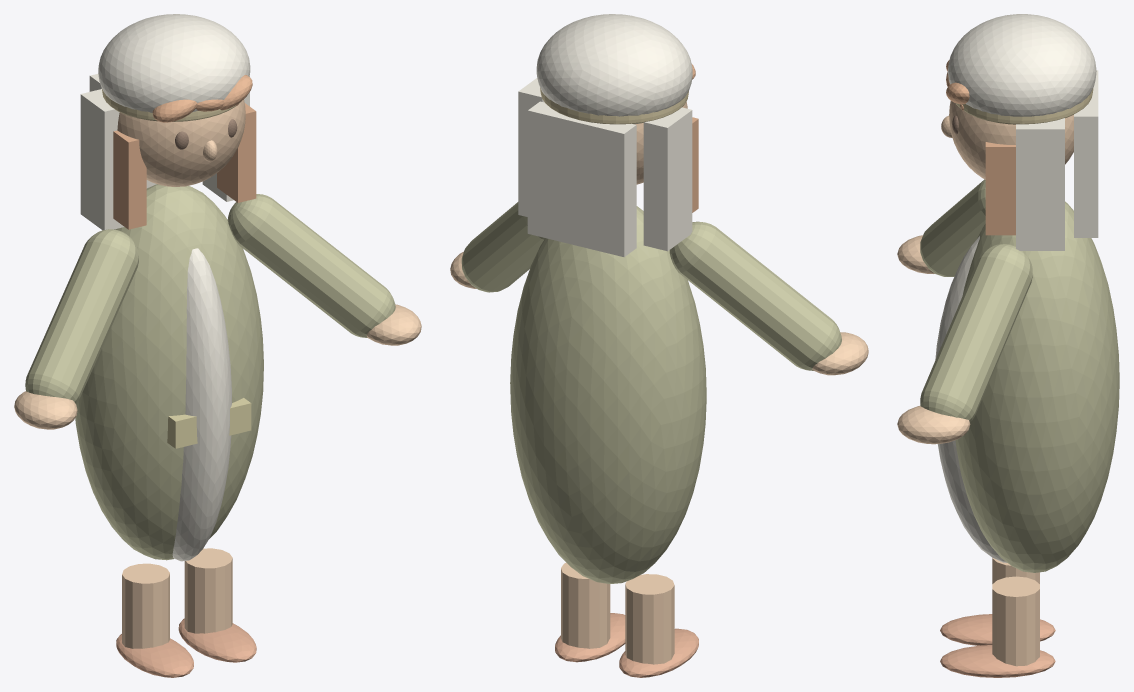
The model's file is neighbor.glb.
The picture shows the model from 3 angles, left to right: view 1: azimuth 30°, elevation 25°; view 2: azimuth 150°, elevation 25°; view 3: azimuth 270°, elevation 25°; orthographic projection. The views are drawn at different scales.
Parts seen in each view (by area): view 1: Body_Coat, Robe_Front, Scarf_Top, Sleeve_L, Sleeve_R, Head, Scarf_Side_R, Leg_R, Leg_L, Hair_Side_R, Hair_Side_L, Sandal_L (+6 smaller); view 2: Body_Coat, Scarf_Back, Scarf_Top, Sleeve_R, Scarf_Side_R, Sleeve_L, Leg_R, Leg_L, Scarf_Side_L, Sandal_R, Hand_R, Sandal_L (+2 smaller); view 3: Body_Coat, Scarf_Top, Sleeve_L, Scarf_Side_L, Leg_L, Sleeve_R, Scarf_Back, Robe_Front, Hair_Side_L, Head, Sandal_L, Hand_L (+5 smaller).
Boxes of the visible parts, x1,y1,x2,y2 form: Body_Coat: [75, 184, 263, 560]; Robe_Front: [172, 248, 231, 561]; Scarf_Top: [98, 14, 250, 112]; Sleeve_L: [227, 194, 395, 337]; Sleeve_R: [25, 229, 138, 403]; Head: [117, 99, 245, 186]; Scarf_Side_R: [80, 89, 124, 230]; Leg_R: [122, 563, 169, 648]; Leg_L: [184, 548, 232, 633]; Hair_Side_R: [113, 130, 146, 229]; Hair_Side_L: [217, 103, 256, 202]; Sandal_L: [178, 618, 256, 662]; Body_Coat: [510, 206, 706, 583]; Scarf_Back: [527, 101, 636, 256]; Scarf_Top: [536, 14, 692, 124]; Sleeve_R: [669, 221, 841, 370]; Scarf_Side_R: [643, 107, 692, 251]; Sleeve_L: [461, 202, 544, 292]; Leg_R: [625, 574, 674, 664]; Leg_L: [561, 562, 610, 648]; Scarf_Side_L: [518, 78, 544, 216]; Sandal_R: [619, 628, 698, 677]; Hand_R: [812, 332, 868, 375]; Sandal_L: [555, 613, 625, 662]; Body_Coat: [955, 201, 1119, 572]; Scarf_Top: [948, 14, 1096, 116]; Sleeve_L: [920, 244, 1032, 422]; Scarf_Side_L: [1016, 118, 1064, 250]; Leg_L: [992, 576, 1039, 666]; Sleeve_R: [920, 179, 985, 276]; Scarf_Back: [1074, 70, 1098, 237]; Robe_Front: [935, 236, 1006, 562]; Hair_Side_L: [985, 142, 1015, 235]; Head: [949, 101, 1073, 179]; Sandal_L: [940, 645, 1055, 677]; Hand_L: [897, 406, 970, 444].
Size of the model in its own units: 0.76 by 1.14 by 0.365.
